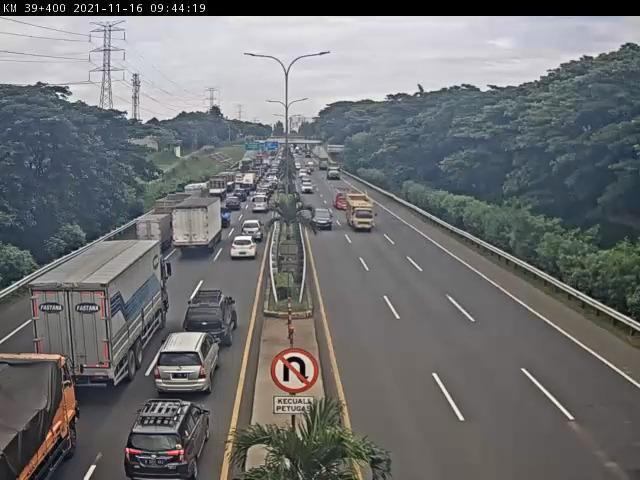car: (127, 394, 209, 473), (159, 328, 221, 384), (190, 286, 238, 340), (230, 236, 257, 262), (313, 207, 334, 232), (244, 219, 264, 240), (229, 196, 242, 210), (255, 196, 268, 210), (304, 183, 314, 192), (301, 169, 310, 178), (296, 164, 304, 171)
truck: (28, 238, 175, 401), (1, 353, 73, 480), (171, 198, 225, 261), (139, 210, 171, 245), (350, 199, 377, 231), (329, 165, 342, 182), (336, 193, 347, 210), (308, 160, 318, 172), (322, 161, 330, 173)
